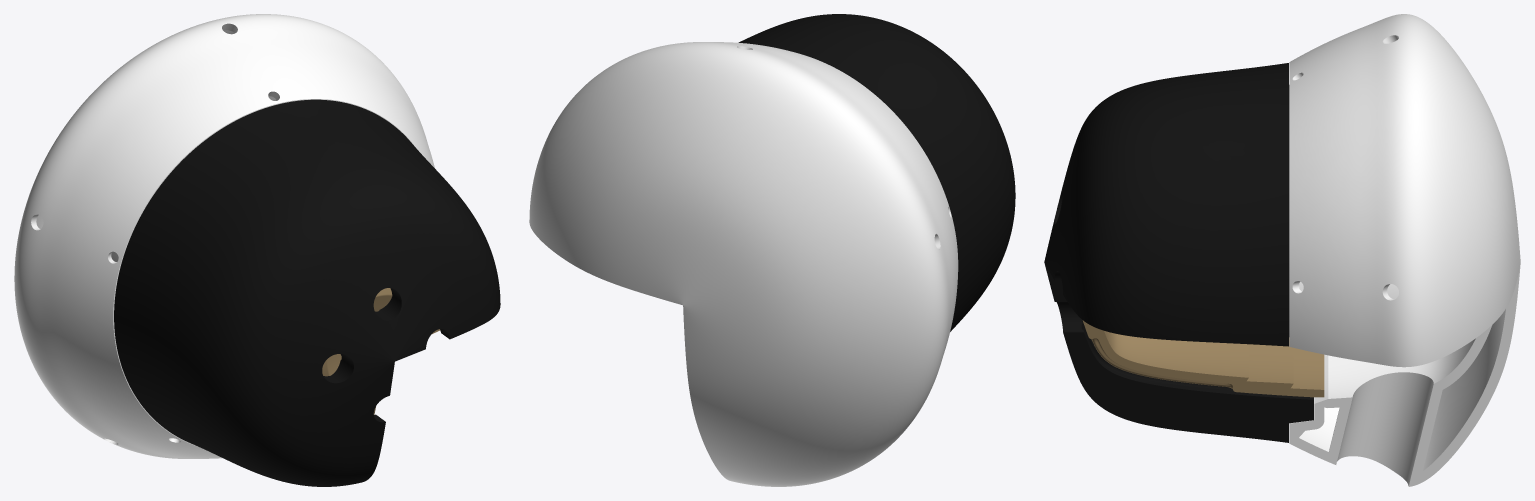
File: NutHatchHVAC-v10.glb
The picture shows the model from 3 angles, left to right: view 1: azimuth 30°, elevation 25°; view 2: azimuth 150°, elevation 25°; view 3: azimuth 270°, elevation 25°; orthographic projection. The views are drawn at different scales.
Parts seen in each view (by area): view 1: mesh_0_2, mesh_0, mesh_0_1; view 2: mesh_0, mesh_0_2; view 3: mesh_0, mesh_0_2, mesh_0_1.
Part boxes in pixels (x1,y1,x2,y2): mesh_0_2: [114, 99, 500, 486]; mesh_0: [14, 14, 434, 458]; mesh_0_1: [322, 288, 440, 414]; mesh_0: [529, 42, 958, 486]; mesh_0_2: [738, 14, 1015, 331]; mesh_0: [1289, 14, 1520, 486]; mesh_0_2: [1044, 63, 1313, 442]; mesh_0_1: [1082, 320, 1324, 397].
Size of the model in its own units: 7.36 by 7.35 by 7.06.
